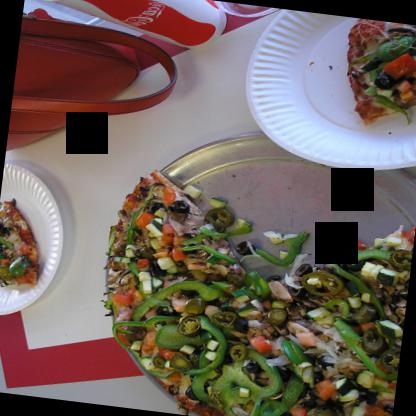handbag: (6, 8, 174, 150)
